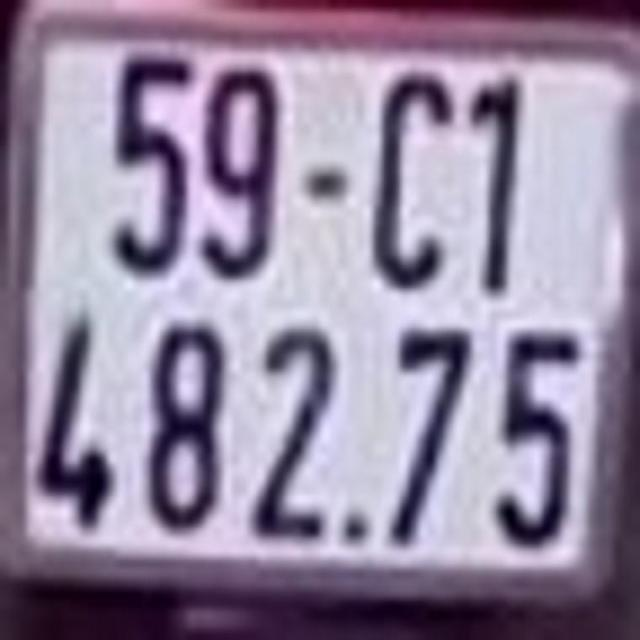1: (462, 69, 533, 292)
2: (253, 320, 334, 546)
4: (34, 314, 114, 536)
5: (494, 322, 580, 548), (112, 47, 193, 280)
7: (390, 314, 470, 546)
8: (145, 306, 224, 533)
9: (196, 50, 277, 280)
C: (371, 63, 457, 290)
